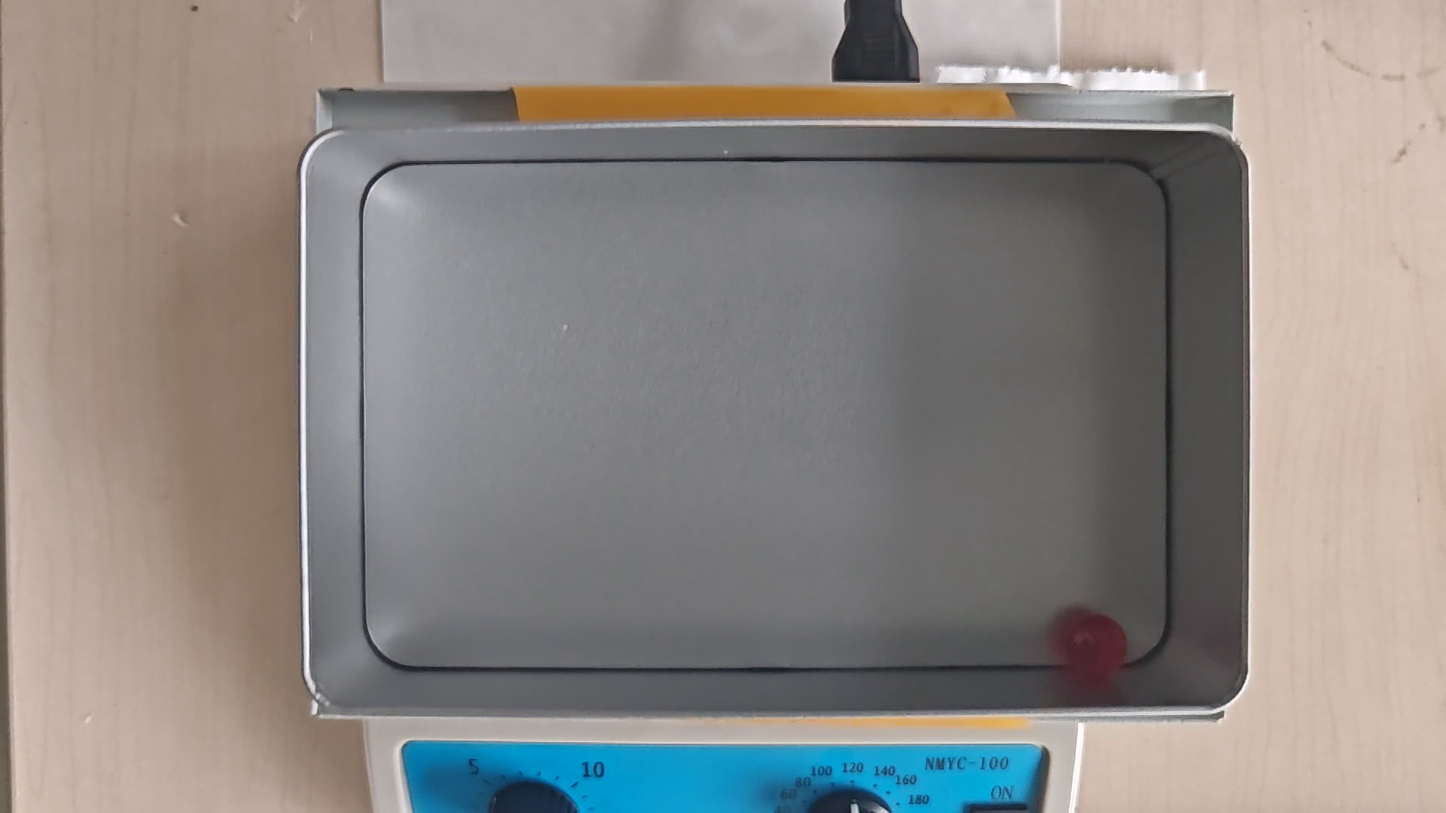ball: (1065, 613, 1130, 680)
container: (362, 162, 1169, 671)
